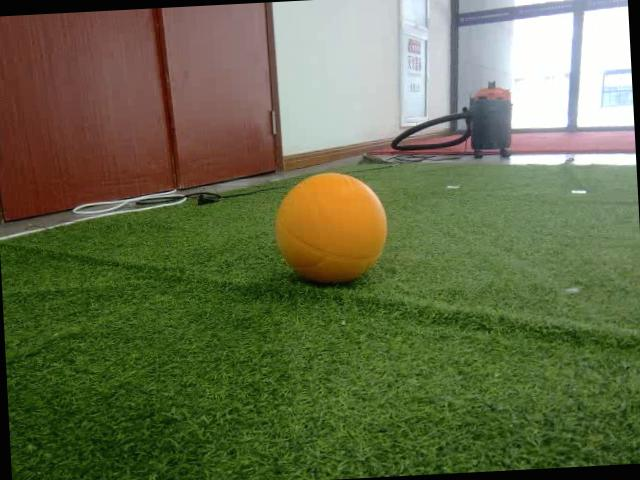orange_ball: (271, 168, 391, 286)
